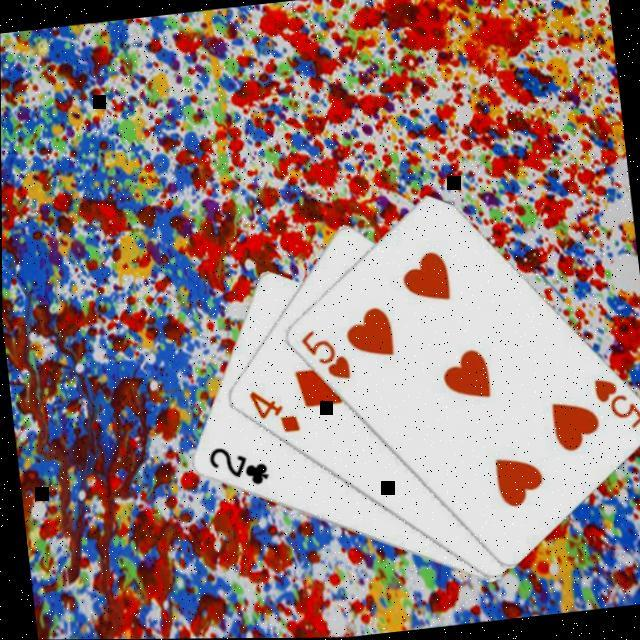2C: (200, 438, 269, 492)
4D: (242, 382, 300, 438)
5H: (292, 320, 350, 386), (585, 370, 640, 434)
